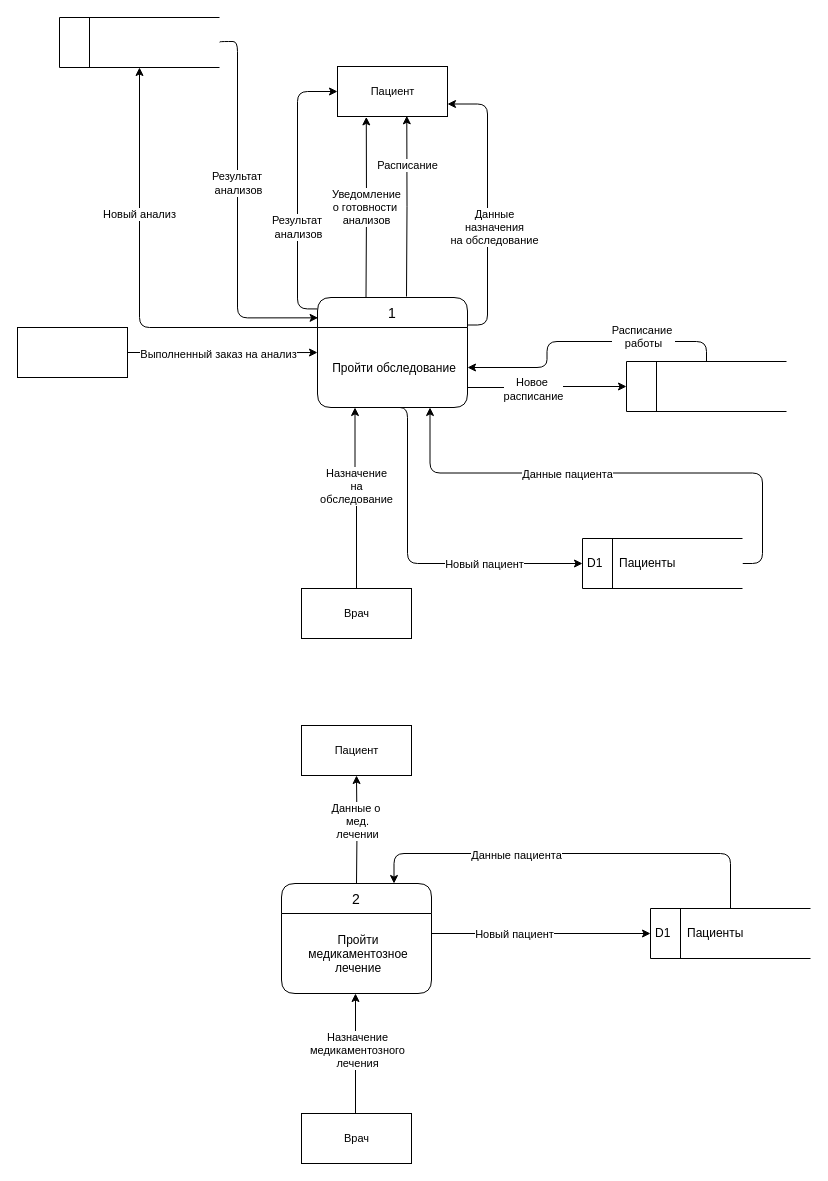
This 828x1181 diagram has some shape labels left out. Each missing label, with the centre of its shape:
"D 2 Расписание работы" goes at (x=706, y=386).
"D 3 Анализы" goes at (x=139, y=42).
"Лаборатория" goes at (x=72, y=352).
